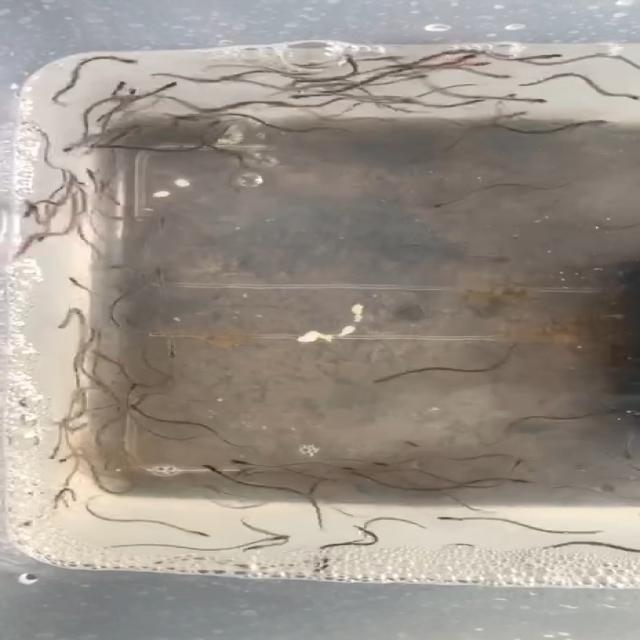inactive_glass_eel: (87, 52, 143, 68), (429, 193, 461, 215), (54, 135, 83, 157), (279, 53, 321, 68), (84, 139, 122, 153), (367, 373, 402, 388), (506, 452, 537, 468), (288, 87, 312, 105), (560, 417, 588, 432), (198, 464, 225, 478), (114, 86, 141, 100), (448, 53, 482, 64), (50, 454, 80, 466), (460, 60, 492, 71), (615, 90, 640, 104), (430, 515, 461, 526), (356, 457, 384, 469), (100, 307, 123, 321), (152, 346, 175, 360), (126, 406, 152, 418), (487, 71, 511, 84), (174, 112, 196, 126), (241, 541, 264, 554), (528, 92, 551, 105), (317, 540, 341, 552), (464, 458, 492, 468), (392, 462, 410, 477), (147, 269, 171, 280), (432, 492, 456, 503), (184, 531, 213, 540), (229, 457, 258, 466), (150, 329, 170, 342), (80, 168, 103, 179), (258, 533, 286, 542), (275, 454, 300, 464), (206, 117, 228, 128), (19, 204, 43, 214), (140, 70, 170, 78), (130, 358, 150, 370), (516, 475, 533, 489), (502, 112, 530, 120), (93, 118, 110, 131), (327, 498, 351, 507), (399, 72, 429, 79), (158, 84, 176, 95), (504, 92, 518, 106), (530, 54, 561, 60), (124, 382, 139, 394), (262, 100, 284, 108), (342, 470, 359, 480), (66, 424, 90, 430), (103, 376, 119, 385), (33, 232, 50, 240), (589, 118, 605, 126), (66, 280, 83, 287), (195, 109, 212, 116), (66, 349, 74, 362)
